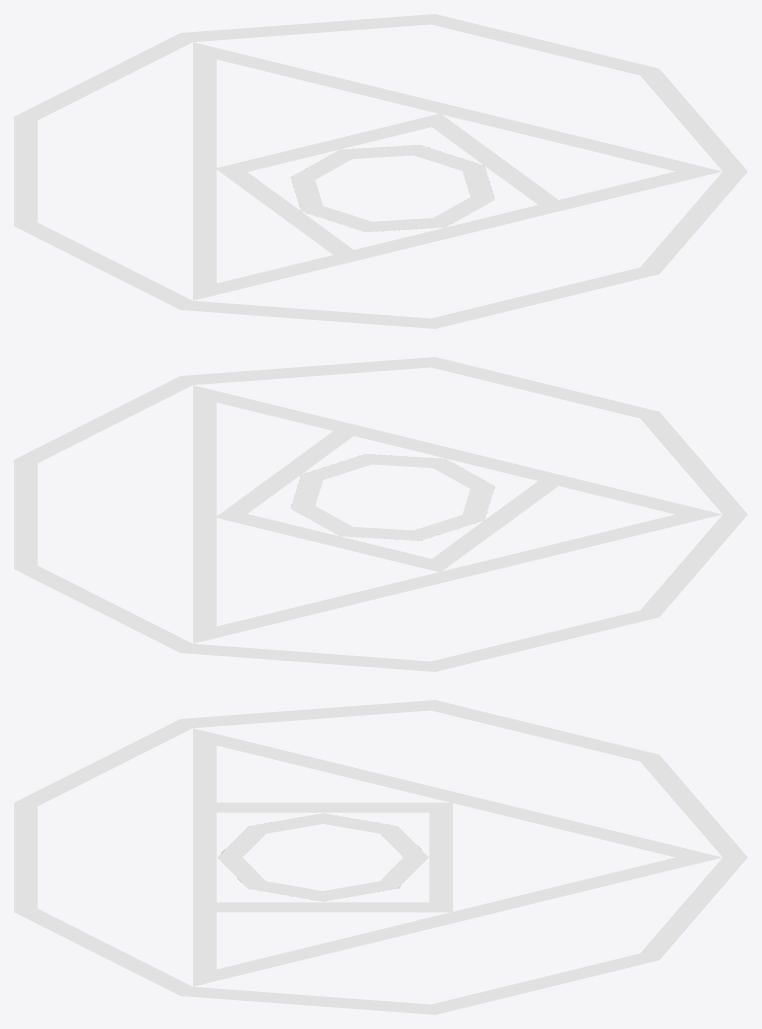
File: circle_fabrication_circle.obj
3 views of the same model, one above another, from view 1: azimuth 30°, elevation 25°; view 2: azimuth 150°, elevation 25°; view 3: azimuth 270°, elevation 25° (orthographic).
Visible parts, largest first — view 1: CIRCLE_FABRICATION_CHALK_CIRCLE_Circle.001; view 2: CIRCLE_FABRICATION_CHALK_CIRCLE_Circle.001; view 3: CIRCLE_FABRICATION_CHALK_CIRCLE_Circle.001.
Boxes of the visible parts, x1,y1,x2,y2 form: CIRCLE_FABRICATION_CHALK_CIRCLE_Circle.001: (14, 14, 747, 328); CIRCLE_FABRICATION_CHALK_CIRCLE_Circle.001: (14, 357, 747, 671); CIRCLE_FABRICATION_CHALK_CIRCLE_Circle.001: (14, 700, 747, 1014).
Bounding box in the file's own units: 1.97 × 0.00299 × 1.94.
